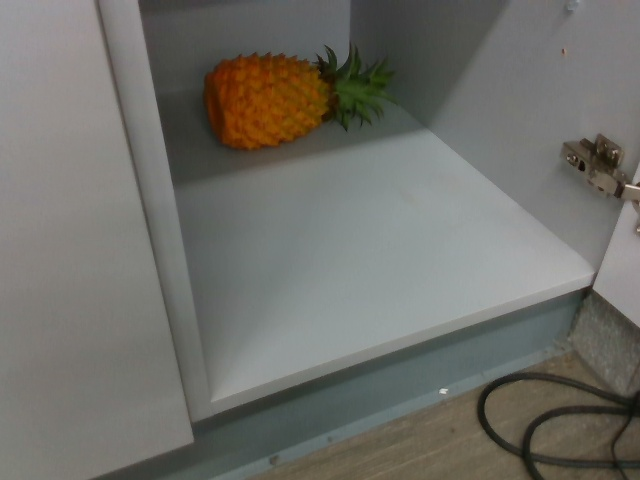pineapple: (201, 40, 395, 149)
